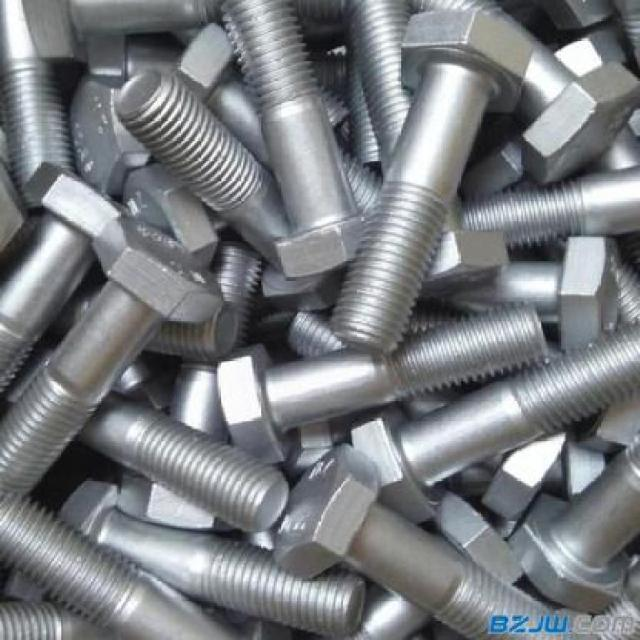Bolt: (328, 9, 533, 360), (0, 215, 224, 509), (350, 318, 640, 524), (287, 308, 567, 520), (269, 444, 564, 640), (114, 67, 346, 315), (216, 301, 552, 466), (59, 478, 368, 639), (344, 1, 510, 298), (113, 235, 264, 532), (408, 0, 640, 187), (0, 161, 129, 405), (508, 432, 640, 614), (0, 0, 86, 203)
